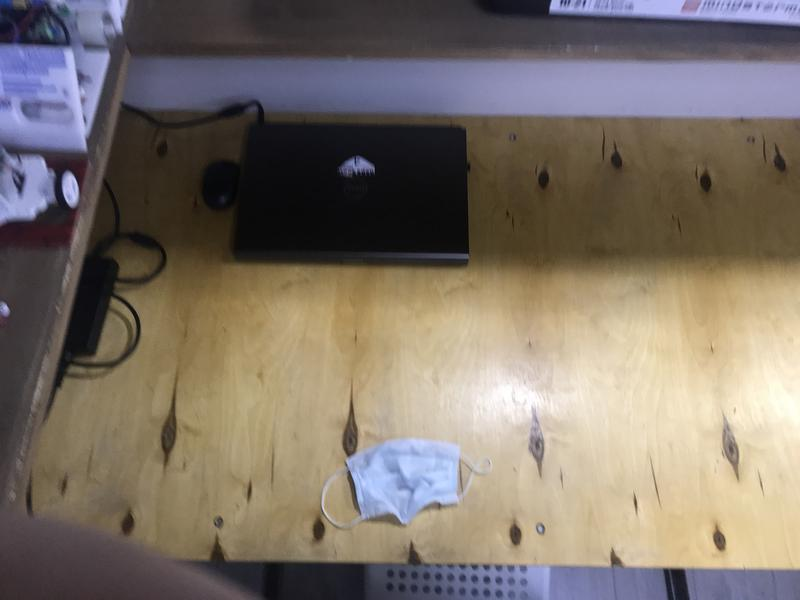medical_mask: (322, 438, 491, 530)
